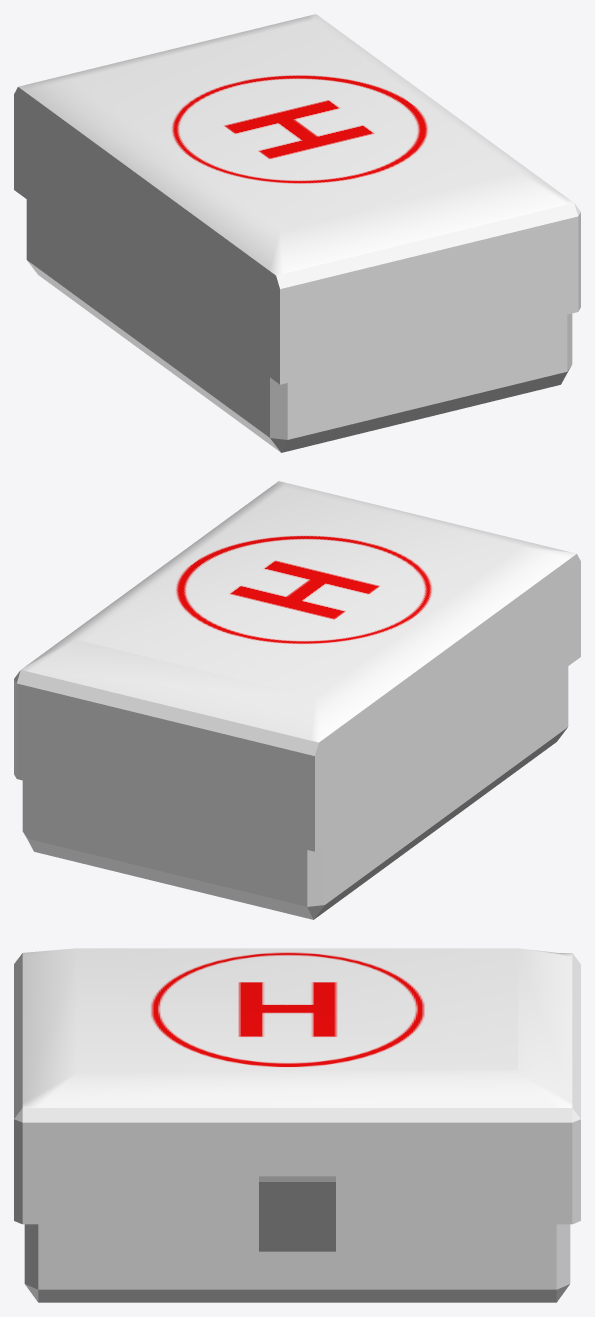
The model's file is Healthpak.fbx.
3 renders of one model, top to bottom at view 1: azimuth 30°, elevation 25°; view 2: azimuth 150°, elevation 25°; view 3: azimuth 270°, elevation 25°, orthographic. The views are drawn at different scales.
Parts seen in each view (by area): view 1: HealthKit; view 2: HealthKit; view 3: HealthKit.
Boxes of the visible parts, x1,y1,x2,y2 form: HealthKit: (14, 14, 580, 452); HealthKit: (14, 481, 580, 919); HealthKit: (14, 948, 580, 1302).
Size of the model in its own units: 0.7414 by 0.459 by 1.08.
1 material, 1 textured.
